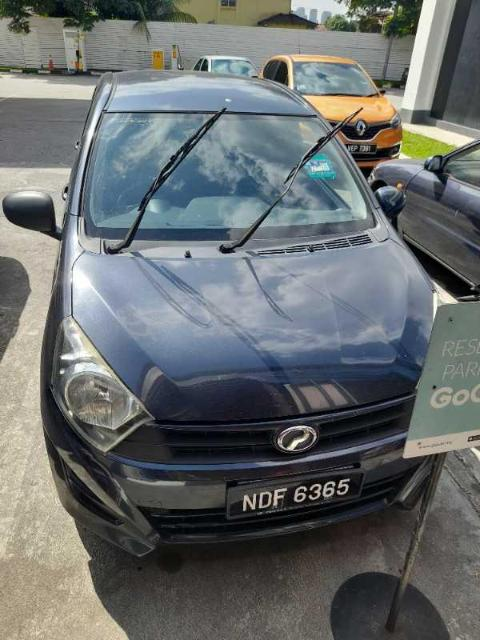License_Plate: (225, 470, 365, 522)
car: (4, 69, 469, 561), (261, 54, 403, 177)
